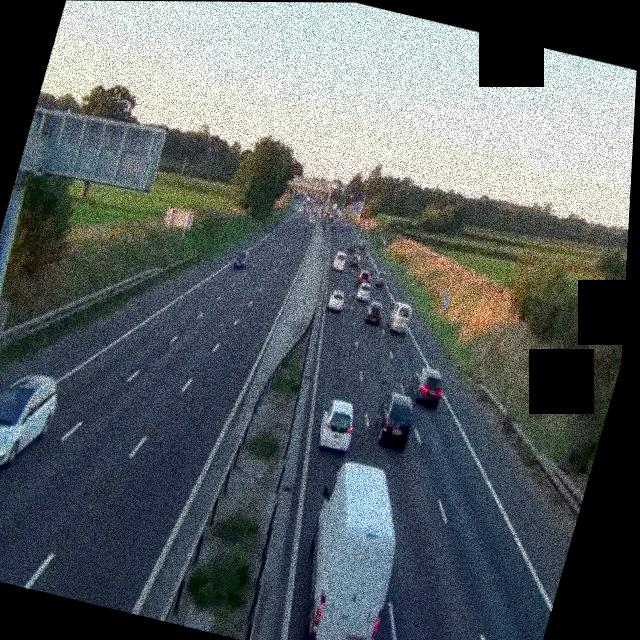car: (282, 456, 420, 640), (0, 362, 63, 479), (368, 389, 419, 451), (314, 396, 359, 453), (404, 363, 448, 408), (385, 300, 415, 337), (363, 298, 386, 326), (326, 287, 348, 312), (232, 247, 250, 269), (332, 250, 349, 272), (356, 270, 374, 290), (371, 271, 387, 289), (348, 251, 362, 269), (354, 239, 366, 253), (329, 220, 340, 232), (306, 214, 315, 225)
